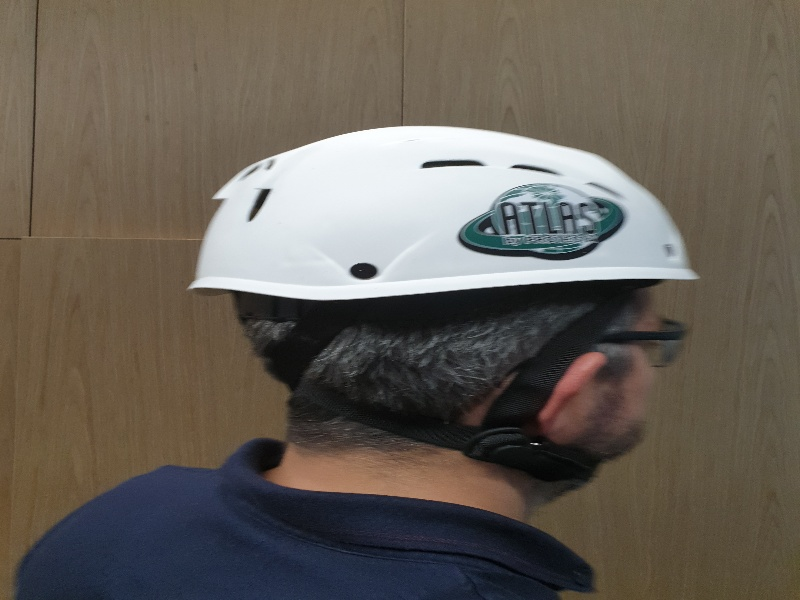Baret: (197, 128, 700, 295)
